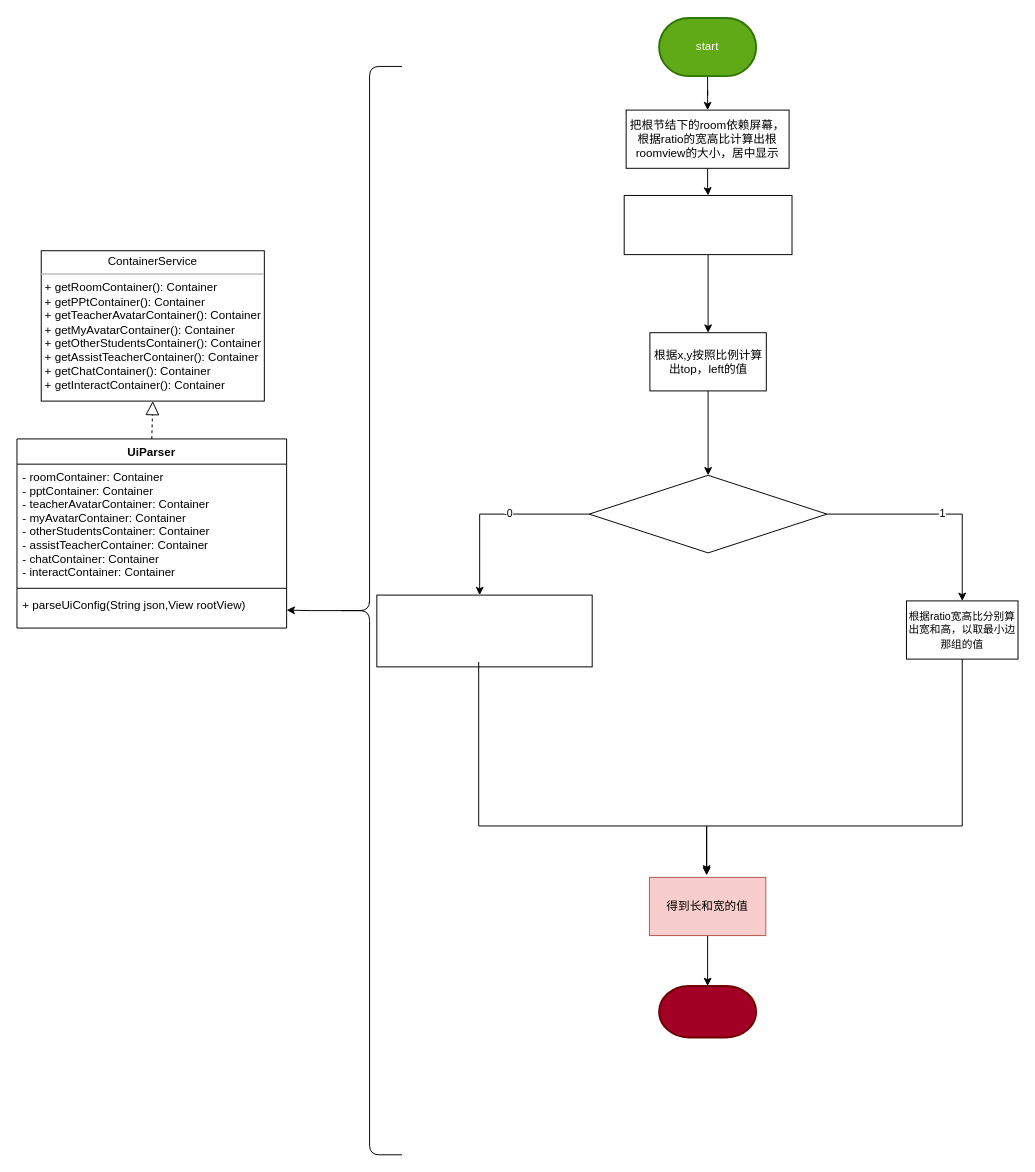
Image size: 1035x1172. Some labels were removed from this diagram. The box of each missing label's shape, as (x1, y1, x2, y2) in pixels:
end: (658, 985, 757, 1038)
layoutType: (588, 474, 827, 553)
真实的宽度 = 父view的宽度 * width 真实的高度 = 父view的高度 * height: (376, 594, 592, 667)
获取room节点下的children属性,按顺序依次初始化容器: (623, 194, 792, 255)
